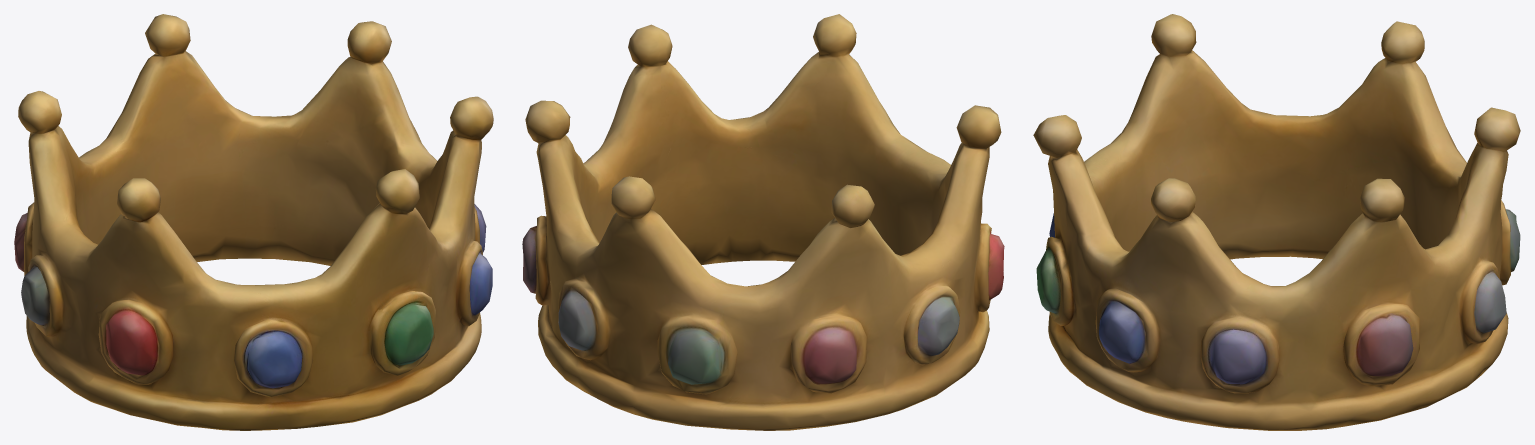
The model's file is aks-tac1.glb.
3 views of the same model, side by side, from view 1: azimuth 30°, elevation 25°; view 2: azimuth 150°, elevation 25°; view 3: azimuth 270°, elevation 25° (orthographic).
Visible parts, largest first — view 1: aks; view 2: aks; view 3: aks.
Part boxes in pixels (left/top/right/bottom): aks: left=14, top=14, right=493, bottom=430; aks: left=522, top=14, right=1004, bottom=430; aks: left=1033, top=14, right=1520, bottom=430.
Size of the model in its own units: 0.9821 by 0.526 by 0.9812.
1 material, 1 textured.
